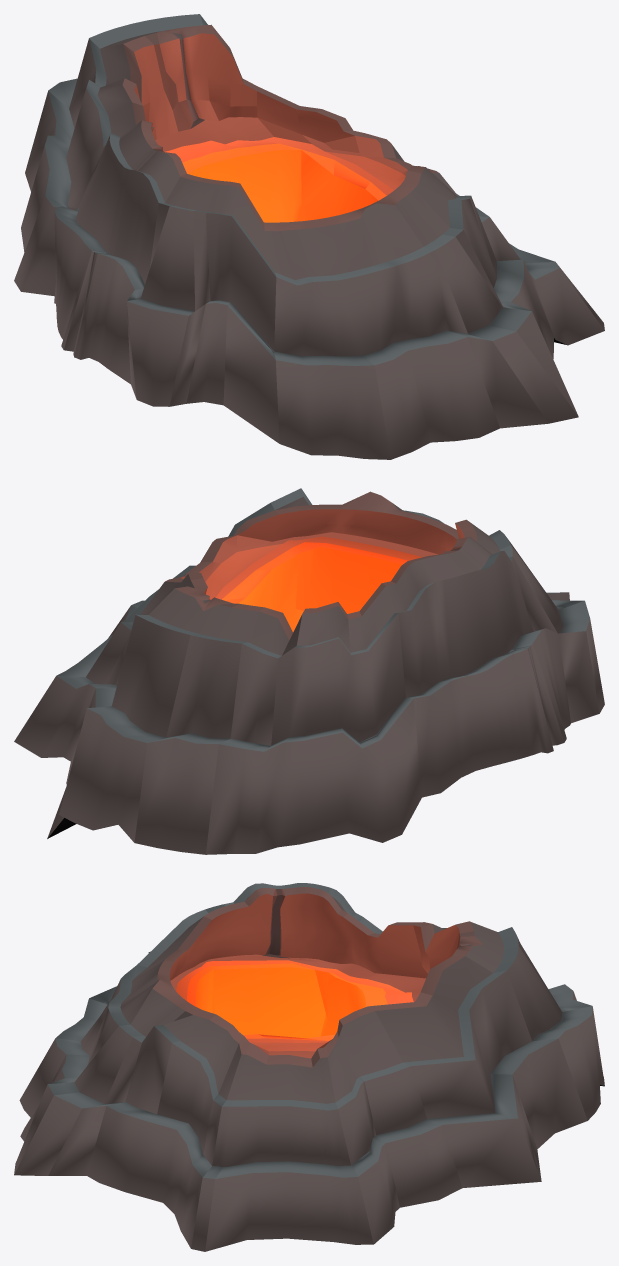
Rendered from BaseTexture.fbx.
The picture shows the model from 3 angles, top to bottom: view 1: azimuth 30°, elevation 25°; view 2: azimuth 150°, elevation 25°; view 3: azimuth 270°, elevation 25°; orthographic projection. The views are drawn at different scales.
Visible parts, largest first — view 1: Base; view 2: Base; view 3: Base.
Boxes of the visible parts, x1=… form: Base: x1=14, y1=14, x2=604, y2=459; Base: x1=14, y1=488, x2=604, y2=854; Base: x1=14, y1=883, x2=604, y2=1251.
Size of the model in its own units: 64.31 by 30.65 by 79.8.
